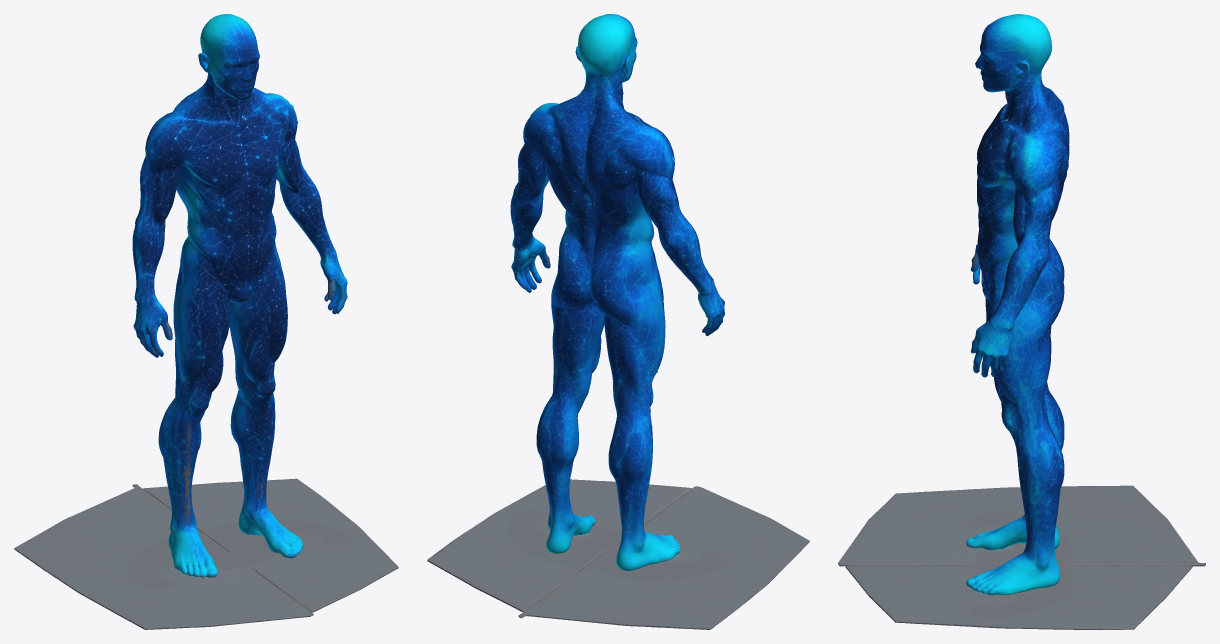
Rendered from holograma-hombre.glb.
3 renders of one model, left to right at view 1: azimuth 30°, elevation 25°; view 2: azimuth 150°, elevation 25°; view 3: azimuth 270°, elevation 25°, orthographic. The views are drawn at different scales.
Visible parts, largest first — view 1: tripo_node_084c1807-ad5a-48bd-92d3-5a5735103cde; view 2: tripo_node_084c1807-ad5a-48bd-92d3-5a5735103cde; view 3: tripo_node_084c1807-ad5a-48bd-92d3-5a5735103cde.
Part boxes in pixels (x1,y1,x2,y2): tripo_node_084c1807-ad5a-48bd-92d3-5a5735103cde: (14, 14, 398, 629); tripo_node_084c1807-ad5a-48bd-92d3-5a5735103cde: (427, 14, 809, 629); tripo_node_084c1807-ad5a-48bd-92d3-5a5735103cde: (838, 14, 1205, 629).
Size of the model in its own units: 0.5443 by 0.9787 by 0.5918.
Materials: 1 (1 with a texture image).
